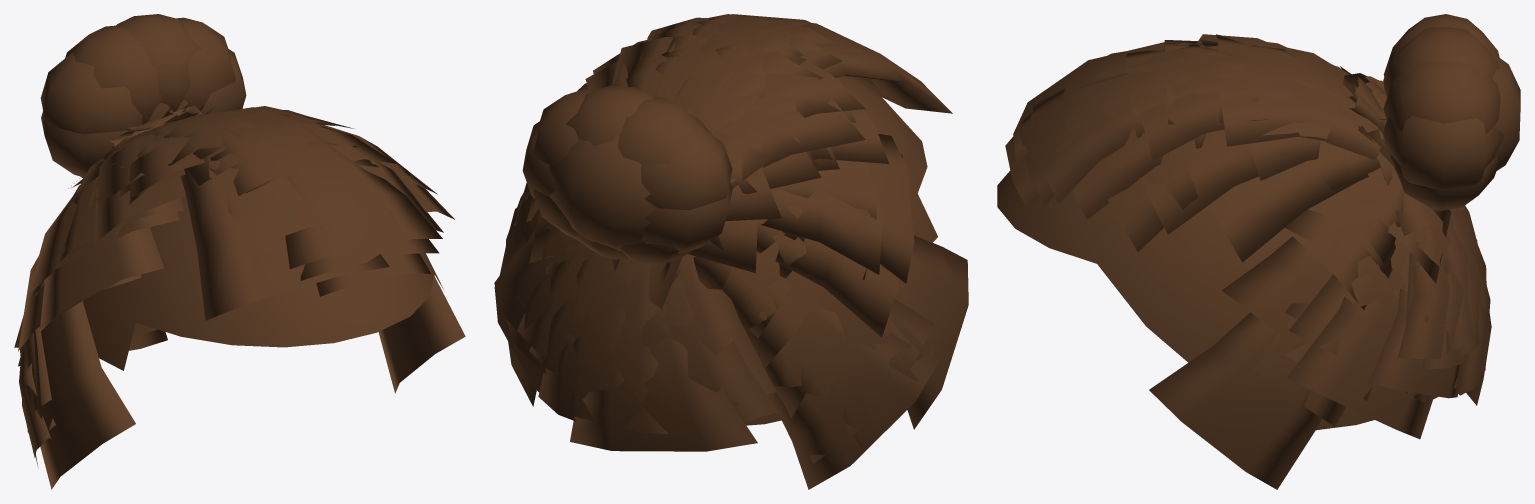
The model's file is man_bun_m.glb.
3 renders of one model, left to right at view 1: azimuth 30°, elevation 25°; view 2: azimuth 150°, elevation 25°; view 3: azimuth 270°, elevation 25°, orthographic. The views are drawn at different scales.
Parts seen in each view (by area): view 1: man_bun_m; view 2: man_bun_m; view 3: man_bun_m.
Part boxes in pixels (x1,y1,x2,y2): man_bun_m: (14, 14, 465, 489); man_bun_m: (494, 14, 968, 489); man_bun_m: (997, 14, 1520, 489).
Bounding box in the file's own units: 0.2029 × 0.1925 × 0.2241.
